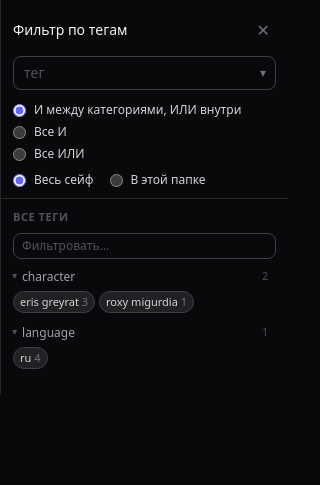
Test case: FilterPanel: каталог тегов › клик по тегу добавляет его в фильтр и подсвечивает в каталоге
The image size is (320, 485).
Click the button "eris greyrat 3" at (54, 302), box [13,290,95,312]
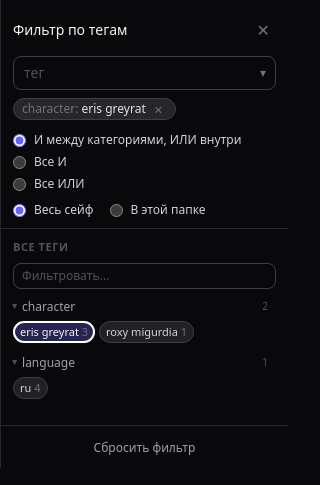
Expected: the list named "Выбранные теги" shows "character: eris greyrat", [13,98,176,120]
